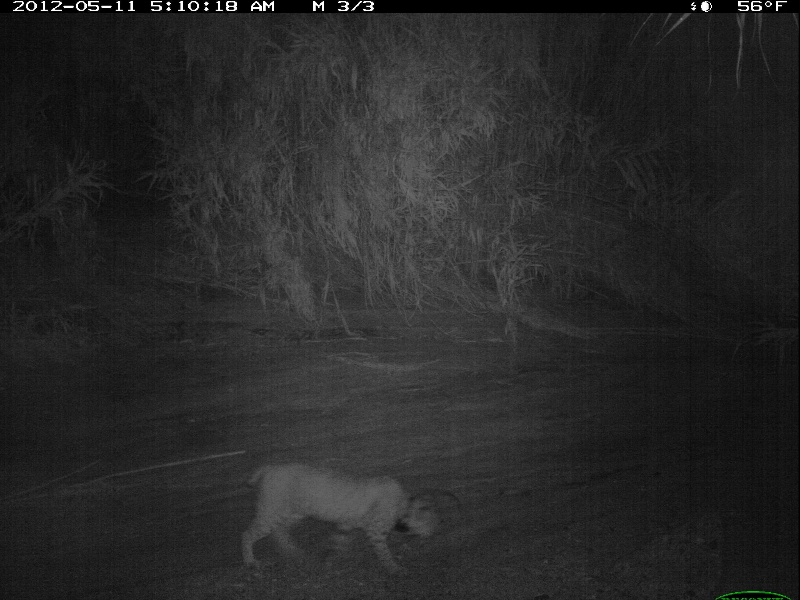cat: (239, 462, 437, 573)
